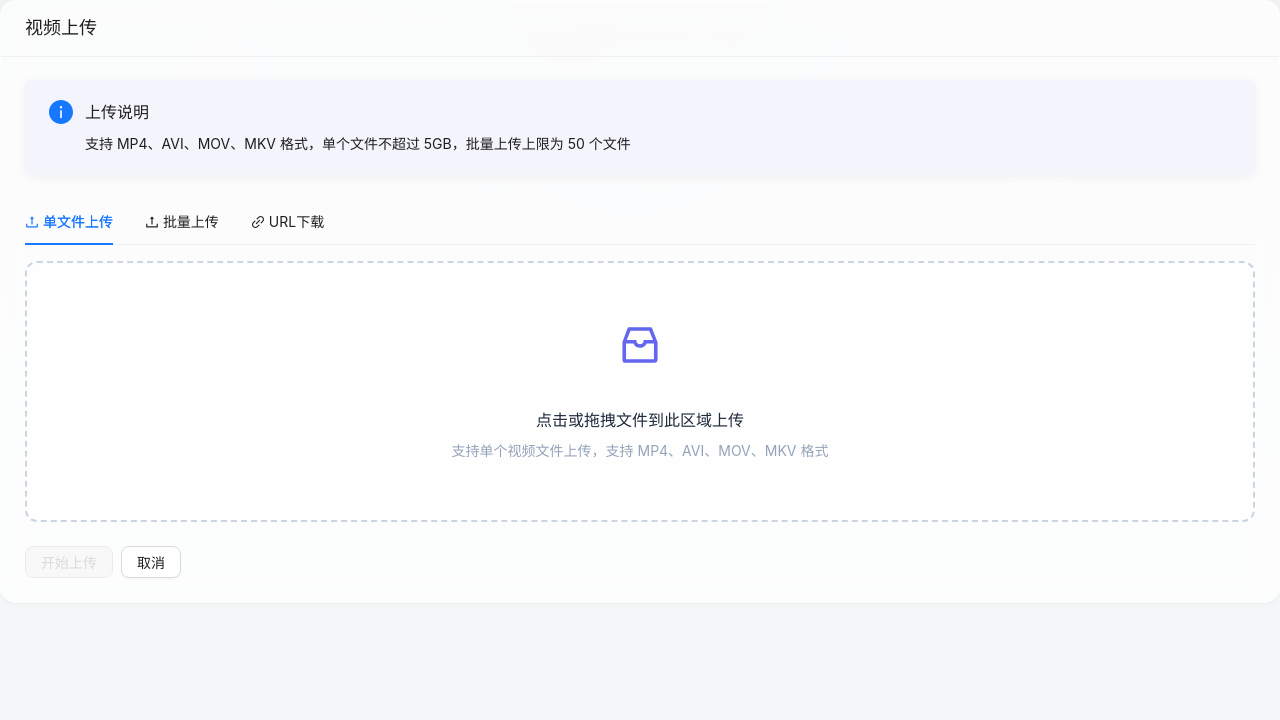
Test: 文件上传交互测试 - File Upload Interactions › 应该能够切换到URL下载标签页
This screenshot has width=1280, height=720.
Click the tab "URL下载".
click(288, 222)  # box [251,211,324,233]
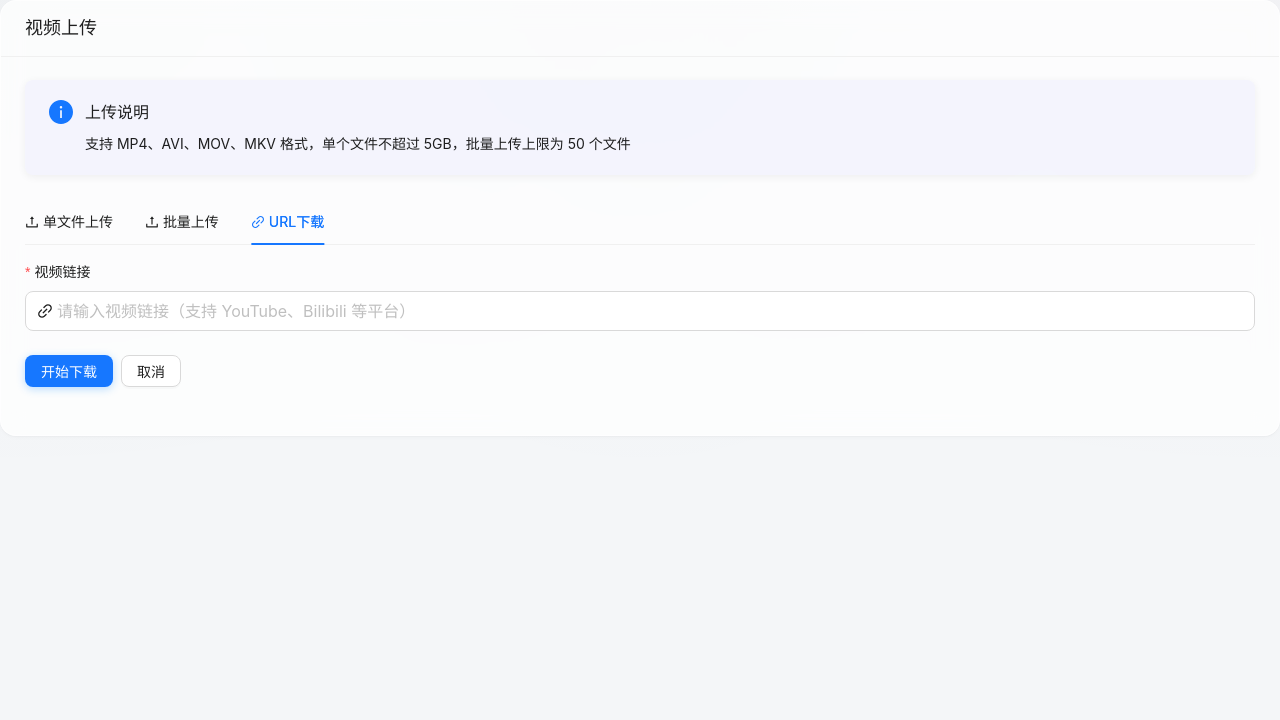
Result: the field with placeholder "请输入视频链接（支持 YouTube、Bilibili 等平台）" is shown at [57,299,1243,323]
